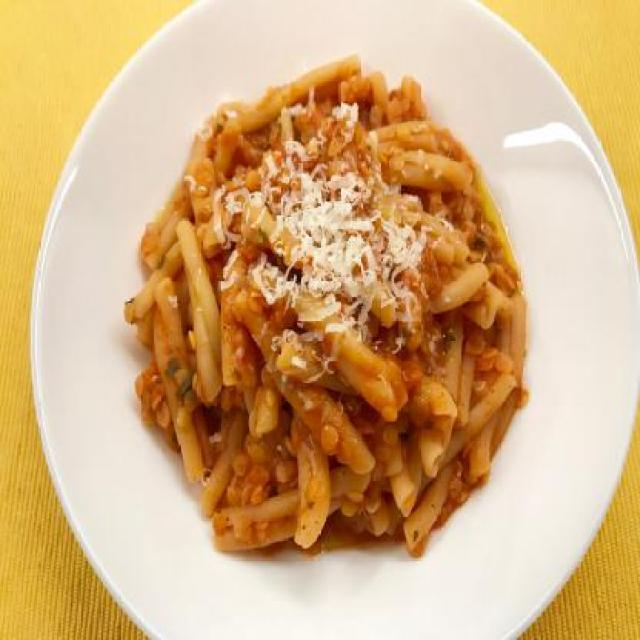Pasta al ragu: (98, 41, 560, 574)
